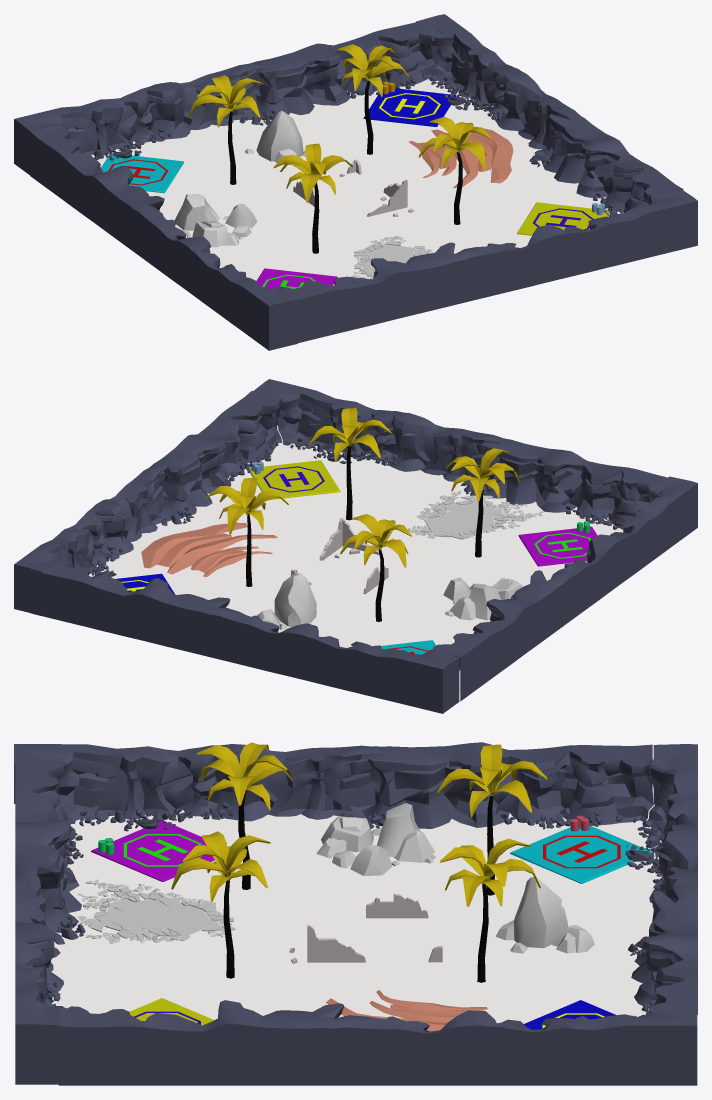
The model's file is snowField.fbx.
3 views of the same model, one above another, from view 1: azimuth 30°, elevation 25°; view 2: azimuth 150°, elevation 25°; view 3: azimuth 270°, elevation 25° (orthographic). The views are drawn at different scales.
Parts seen in each view (by area): view 1: Cube.001, Cliff.001, Cliff, Cliff.003, Cliff.002, Dunes01, Rocks01, Born_Yellow, PalmTree01.002, PalmTree01.003, PalmTree01.001, PalmTree01 (+6 smaller); view 2: Cube.001, Cliff, Cliff.001, Cliff.002, Cliff.003, Dunes01, Tarmac, Born_Blue, Born_Green, Rocks01, PalmTree01, Rocks02 (+4 smaller); view 3: Cube.001, Cliff.002, Cliff.003, Cliff.001, Cliff, Tarmac, Rocks01, Born_Red, Rocks02, Born_Green, PalmTree01.003, PalmTree01 (+6 smaller).
Boxes of the visible parts, x1=… form: Cube.001: x1=91, y1=79, x2=623, y2=285; Cliff.001: x1=269, y1=189, x2=697, y2=343; Cliff: x1=14, y1=22, x2=442, y2=175; Cliff.003: x1=30, y1=125, x2=297, y2=350; Cliff.002: x1=416, y1=14, x2=683, y2=215; Dunes01: x1=409, y1=126, x2=513, y2=187; Rocks01: x1=174, y1=194, x2=257, y2=247; Born_Yellow: x1=363, y1=81, x2=456, y2=126; PalmTree01.002: x1=273, y1=143, x2=352, y2=253; PalmTree01.003: x1=418, y1=116, x2=491, y2=224; PalmTree01.001: x1=189, y1=75, x2=263, y2=184; PalmTree01: x1=338, y1=44, x2=409, y2=154; Cube.001: x1=88, y1=435, x2=623, y2=692; Cliff: x1=31, y1=557, x2=459, y2=713; Cliff.001: x1=253, y1=379, x2=674, y2=529; Cliff.002: x1=14, y1=391, x2=282, y2=612; Cliff.003: x1=431, y1=476, x2=697, y2=701; Dunes01: x1=141, y1=522, x2=277, y2=576; Tarmac: x1=408, y1=490, x2=543, y2=539; Born_Blue: x1=249, y1=460, x2=340, y2=500; Born_Green: x1=518, y1=521, x2=597, y2=566; Rocks01: x1=443, y1=577, x2=522, y2=620; PalmTree01: x1=207, y1=478, x2=288, y2=586; Rocks02: x1=257, y1=572, x2=316, y2=630; Cube.001: x1=50, y1=805, x2=662, y2=1023; Cliff.002: x1=58, y1=1000, x2=697, y2=1085; Cliff.003: x1=14, y1=742, x2=653, y2=831; Cliff.001: x1=15, y1=755, x2=85, y2=1084; Cliff: x1=625, y1=744, x2=697, y2=1015; Tarmac: x1=77, y1=879, x2=235, y2=943; Rocks01: x1=317, y1=803, x2=435, y2=875; Born_Red: x1=510, y1=815, x2=651, y2=883; Rocks02: x1=495, y1=877, x2=594, y2=953; Born_Green: x1=91, y1=820, x2=214, y2=881; PalmTree01.003: x1=171, y1=831, x2=270, y2=978; PalmTree01: x1=440, y1=838, x2=540, y2=982.
Size of the model in its own units: 2671 by 657 by 2742.
